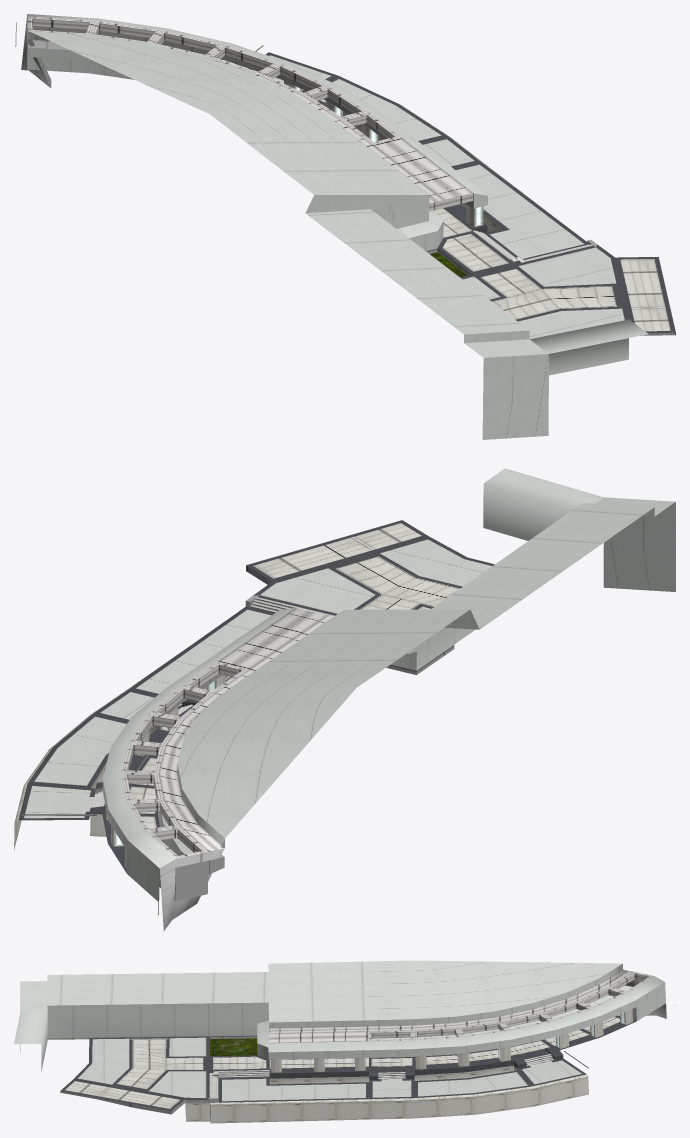
File: STA20_55.FBX
The picture shows the model from 3 angles, top to bottom: view 1: azimuth 30°, elevation 25°; view 2: azimuth 150°, elevation 25°; view 3: azimuth 270°, elevation 25°; orthographic projection. The views are drawn at different scales.
Visible parts, largest first — view 1: STA20_55; view 2: STA20_55; view 3: STA20_55.
Part boxes in pixels (x1,y1,x2,y2): STA20_55: [14, 14, 675, 439]; STA20_55: [14, 468, 675, 931]; STA20_55: [14, 960, 675, 1123].
Bounding box in the file's own units: 38.17 × 15.37 × 103.
